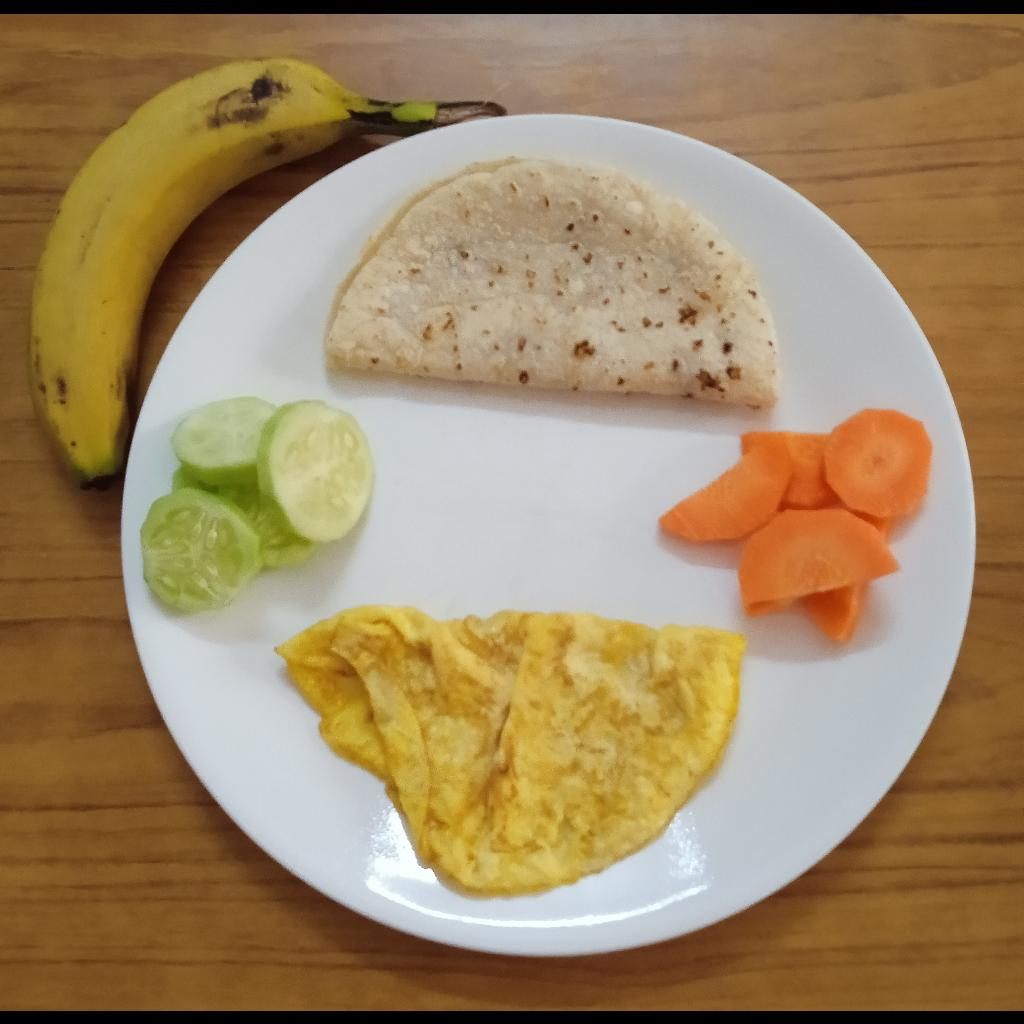banana: (29, 57, 509, 494)
carrot: (658, 409, 933, 643)
cucumber: (141, 394, 375, 610)
egg-poached: (273, 602, 747, 895)
ruti: (322, 155, 780, 409)
